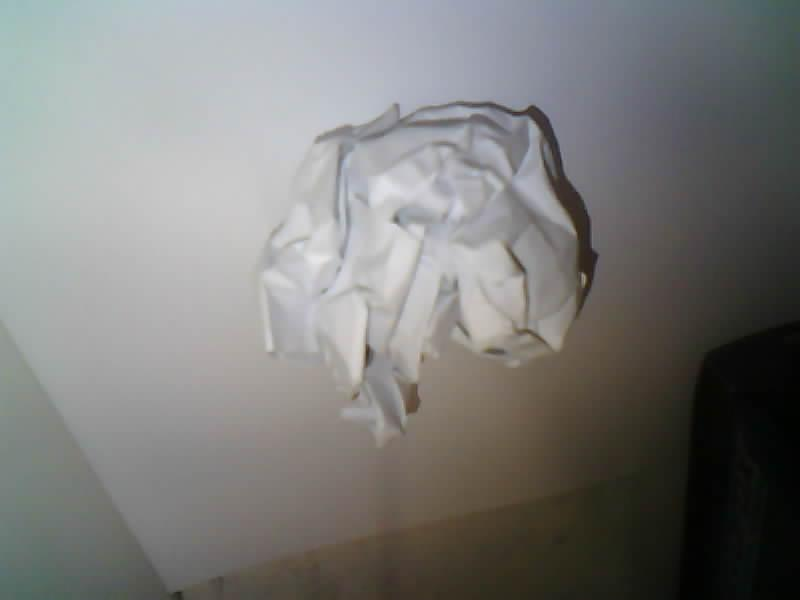biodegradable: (259, 103, 585, 441)
